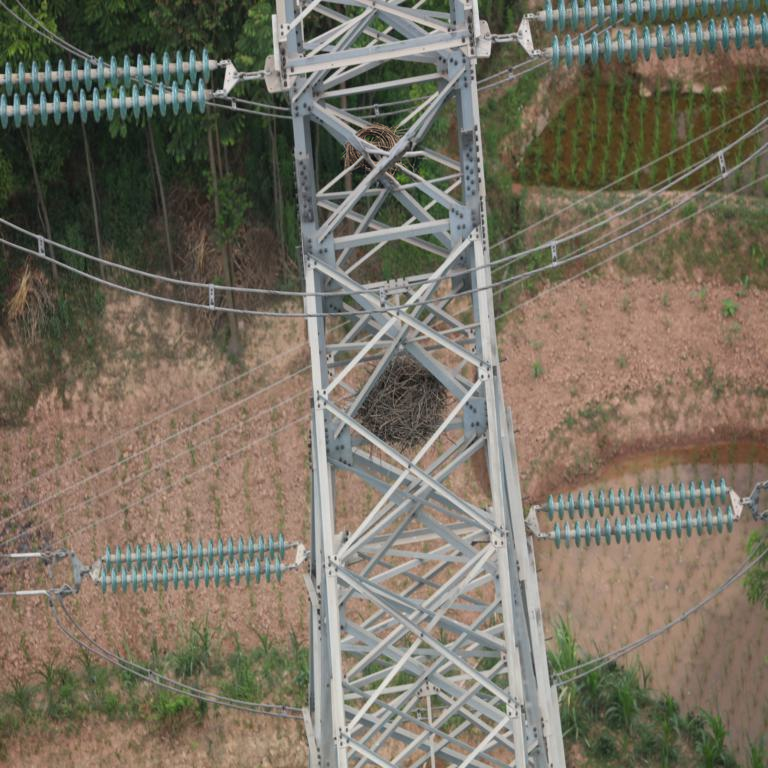nest: (357, 362, 445, 445), (344, 127, 414, 184)
